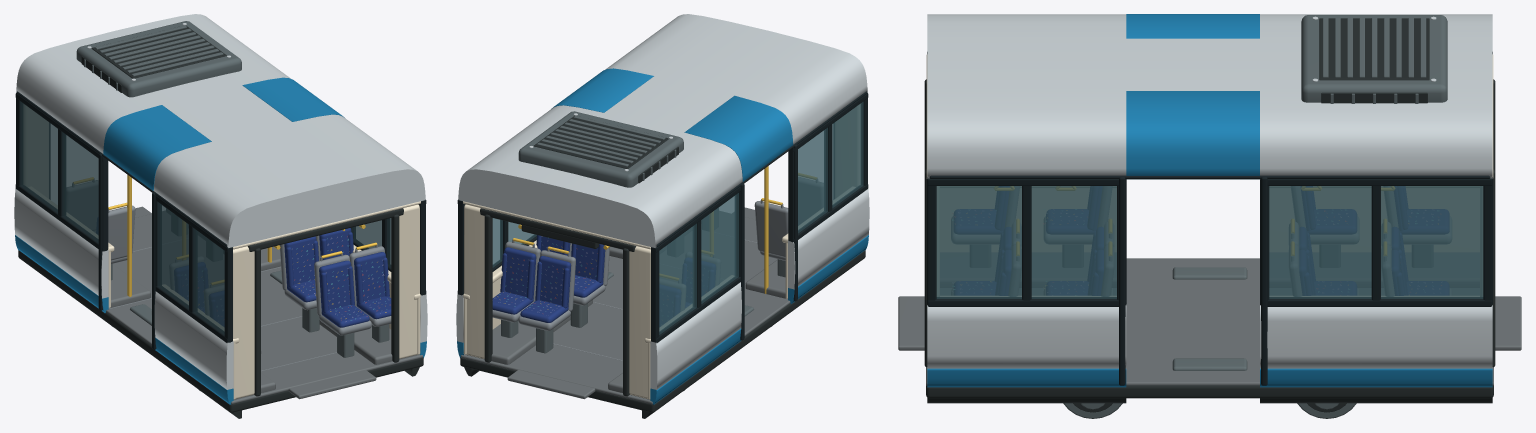
File: tram_saloon.glb
3 views of the same model, side by side, from view 1: azimuth 30°, elevation 25°; view 2: azimuth 150°, elevation 25°; view 3: azimuth 270°, elevation 25° (orthographic). The views are drawn at different scales.
Visible parts, largest first — view 1: Pearl side pressing, Continuous non-slip aisle, Headliner, Blue lower valance, Bonded window seal, Bogie crossmember, Axle bearing cover, Moquette cushion, Ceiling lamp surround, Passenger window.005, Passenger window.004, Passenger window (+3 smaller); view 2: Pearl side pressing, Continuous non-slip aisle, Headliner, Bogie crossmember, Blue lower valance, Bonded window seal, Axle bearing cover, Moquette cushion, Ceiling lamp surround, Passenger window.005, Passenger window.004, Passenger window (+3 smaller); view 3: Pearl side pressing, Continuous non-slip aisle, Blue lower valance, Bonded window seal, Bogie crossmember, Axle bearing cover, Headliner, Passenger window.006, Passenger window.007, Moquette cushion, Passenger window.002, Passenger window.003 (+2 smaller).
Boxes of the visible parts, x1,y1,x2,y2 form: Pearl side pressing: (14,14,427,389); Continuous non-slip aisle: (106,206,422,404); Headliner: (24,105,420,399); Blue lower valance: (15,77,426,404); Bonded window seal: (15,91,426,349); Bogie crossmember: (18,25,423,418); Axle bearing cover: (76,21,389,390); Moquette cushion: (96,218,391,327); Ceiling lamp surround: (67,180,391,371); Passenger window.005: (20,101,57,212); Passenger window.004: (62,132,98,242); Passenger window: (193,228,224,334); Pearl side pressing: (456,14,869,389); Continuous non-slip aisle: (461,207,790,404); Headliner: (463,105,859,399); Bogie crossmember: (460,115,865,418); Blue lower valance: (457,68,868,404); Bonded window seal: (457,91,868,342); Axle bearing cover: (501,111,785,390); Moquette cushion: (492,235,715,326); Ceiling lamp surround: (492,177,823,360); Passenger window.005: (659,223,696,334); Passenger window.004: (701,193,738,303); Passenger window: (832,101,863,207); Pearl side pressing: (927,14,1492,368); Continuous non-slip aisle: (898,253,1521,385); Blue lower valance: (927,14,1492,387); Bonded window seal: (927,52,1492,385); Bogie crossmember: (924,18,1495,412); Axle bearing cover: (970,15,1447,418); Headliner: (926,54,1493,296); Passenger window.006: (1269,186,1371,298); Passenger window.007: (1381,186,1483,298); Moquette cushion: (954,186,1448,295); Passenger window.002: (936,186,1021,298); Passenger window.003: (1031,186,1116,298).
Size of the model in its own units: 2.43 by 2.85 by 4.85.
